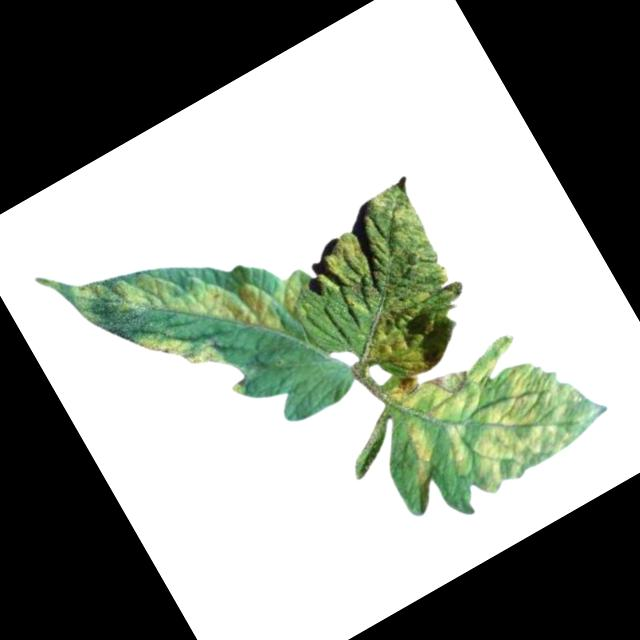Leaf_Mold: (64, 184, 324, 420), (365, 305, 618, 530), (296, 173, 496, 396), (137, 305, 228, 397)
